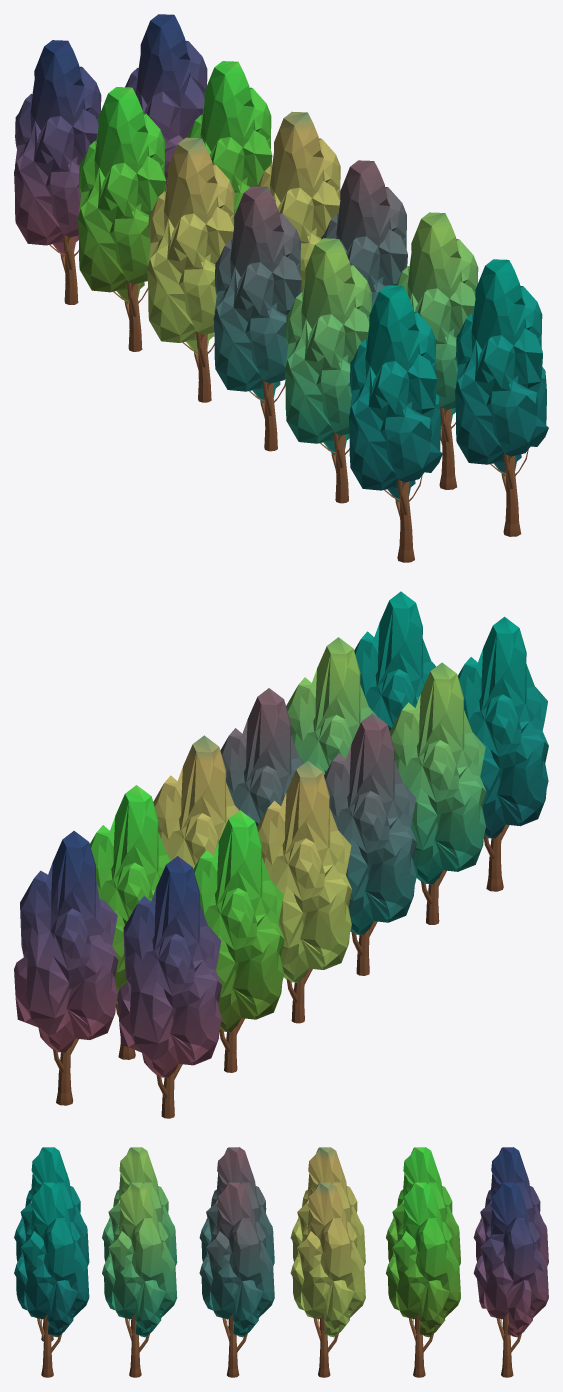
The model's file is Ash_Tree.fbx.
3 renders of one model, top to bottom at view 1: azimuth 30°, elevation 25°; view 2: azimuth 150°, elevation 25°; view 3: azimuth 270°, elevation 25°, orthographic. The views are drawn at different scales.
Visible parts, largest first — view 1: Circle_003, Circle, Circle.002, Circle.004, Circle.003, Circle.005, Circle.001, Circle_003.001, Circle_003.003, Circle_003.004, Circle_003.002, Circle_003.005; view 2: Circle_003.005, Circle.005, Circle.001, Circle.003, Circle.002, Circle, Circle.004, Circle_003.004, Circle_003.001, Circle_003.003, Circle_003.002, Circle_003; view 3: Circle_003, Circle_003.001, Circle_003.004, Circle_003.003, Circle_003.002, Circle_003.005, Circle.001, Circle.003, Circle.004, Circle.005, Circle, Circle.002.
Part boxes in pixels (bbox=[...]): Circle_003: bbox=[455, 259, 548, 536]; Circle: bbox=[349, 285, 442, 550]; Circle.002: bbox=[213, 186, 301, 451]; Circle.004: bbox=[78, 87, 166, 351]; Circle.003: bbox=[147, 137, 234, 402]; Circle.005: bbox=[14, 40, 101, 304]; Circle.001: bbox=[285, 238, 371, 503]; Circle_003.001: bbox=[396, 212, 478, 489]; Circle_003.003: bbox=[257, 111, 340, 291]; Circle_003.004: bbox=[186, 61, 272, 226]; Circle_003.002: bbox=[321, 160, 407, 309]; Circle_003.005: bbox=[125, 14, 207, 191]; Circle_003.005: bbox=[14, 831, 118, 1105]; Circle.005: bbox=[117, 856, 221, 1118]; Circle.001: bbox=[389, 662, 486, 924]; Circle.003: bbox=[257, 761, 352, 1023]; Circle.002: bbox=[324, 713, 416, 975]; Circle: bbox=[458, 616, 548, 879]; Circle.004: bbox=[193, 810, 284, 1072]; Circle_003.004: bbox=[90, 785, 171, 1059]; Circle_003.001: bbox=[286, 637, 377, 774]; Circle_003.003: bbox=[153, 735, 239, 868]; Circle_003.002: bbox=[220, 688, 304, 826]; Circle_003: bbox=[354, 591, 436, 730]; Circle_003: bbox=[14, 1182, 89, 1377]; Circle_003.001: bbox=[102, 1182, 177, 1377]; Circle_003.004: bbox=[386, 1182, 460, 1377]; Circle_003.003: bbox=[290, 1182, 365, 1377]; Circle_003.002: bbox=[199, 1182, 274, 1377]; Circle_003.005: bbox=[473, 1182, 548, 1377]; Circle.001: bbox=[102, 1147, 177, 1330]; Circle.003: bbox=[290, 1147, 365, 1331]; Circle.004: bbox=[386, 1147, 460, 1330]; Circle.005: bbox=[473, 1147, 548, 1330]; Circle: bbox=[14, 1147, 89, 1330]; Circle.002: bbox=[199, 1147, 274, 1330].
Bounding box in the file's own units: 7.55 × 25.39 × 9.96.
